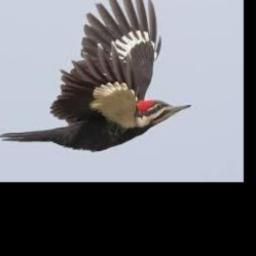Woodpecker: (0, 0, 192, 150)
